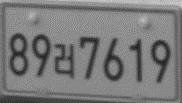1: (128, 37, 143, 83)
6: (102, 37, 124, 82)
7: (79, 36, 100, 80)
8: (9, 32, 29, 78)
9: (149, 39, 172, 82), (31, 33, 51, 77)
러: (52, 43, 75, 79)
